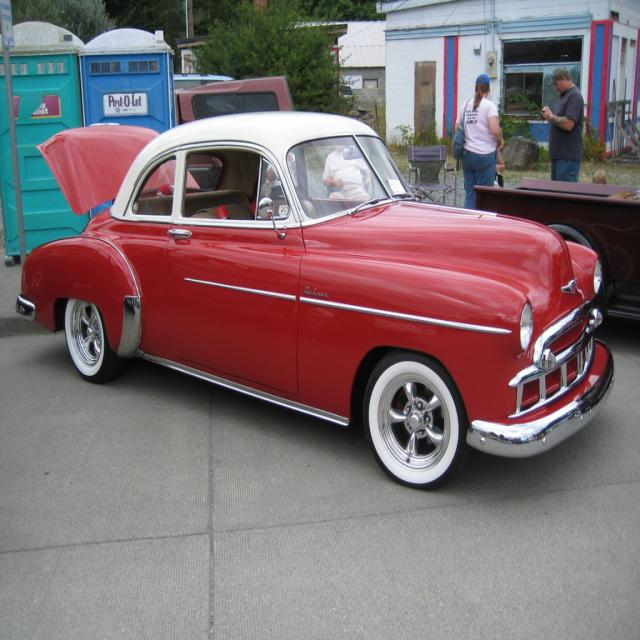car: (22, 116, 612, 487)
